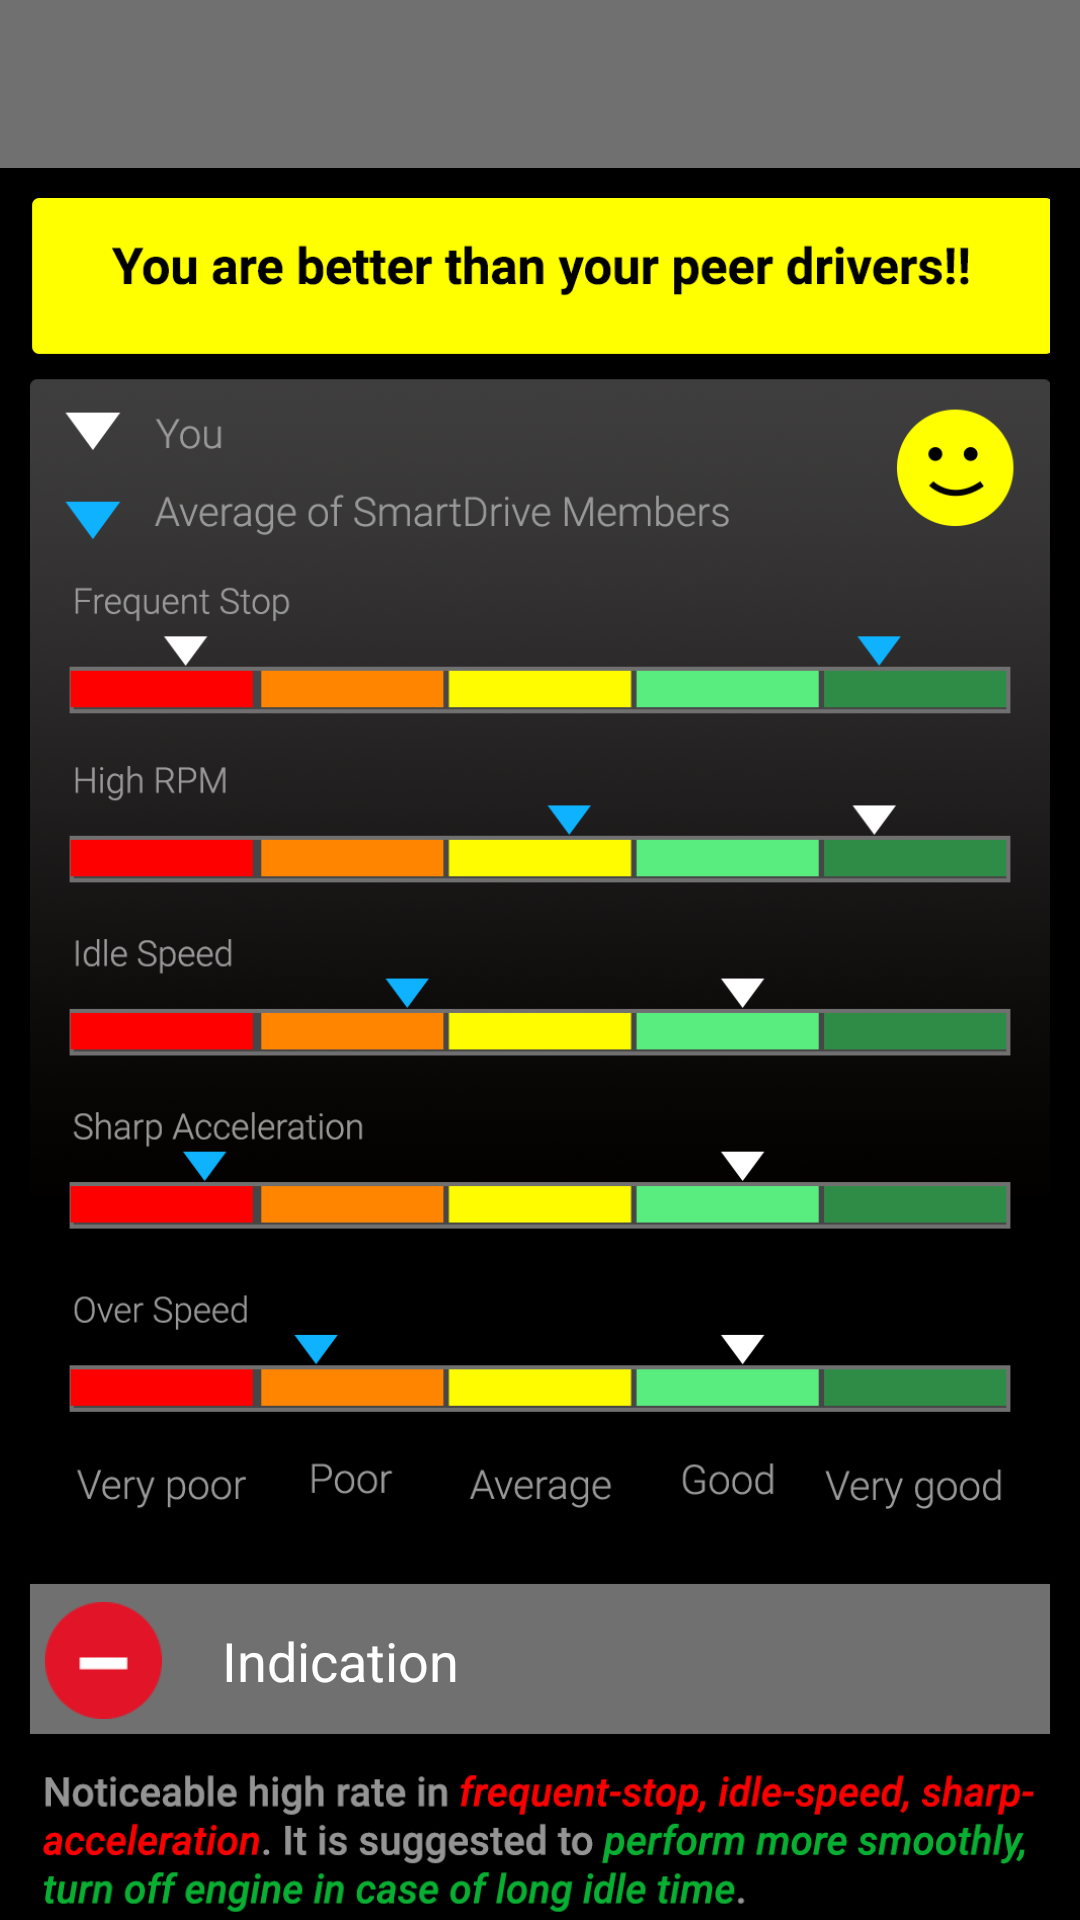

Named icons in this screenshot (1080px x 1920px) and their bounding boxes, (x1,y1,x2,y2):
minus: (45,1602,162,1719)
